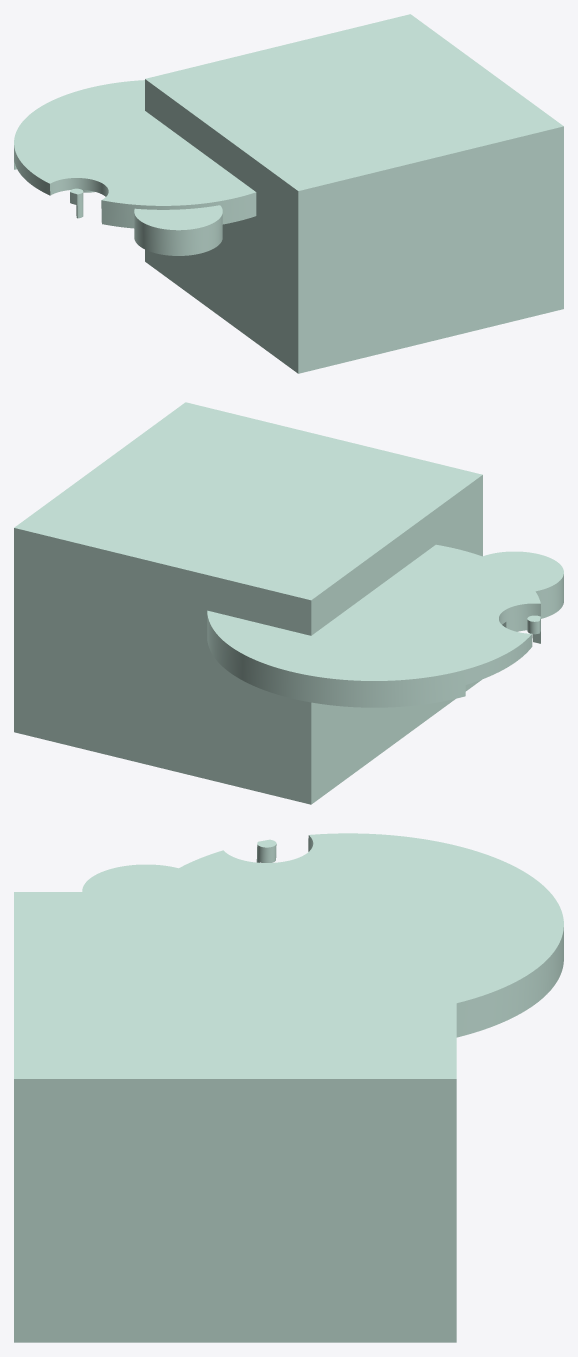
The picture shows the model from 3 angles, top to bottom: view 1: azimuth 30°, elevation 25°; view 2: azimuth 150°, elevation 25°; view 3: azimuth 270°, elevation 25°; orthographic projection. The views are drawn at different scales.
Visible parts, largest first — view 1: Renderer Node; view 2: Renderer Node; view 3: Renderer Node.
Part boxes in pixels (<box>): Renderer Node: <box>14,14,563,373</box>; Renderer Node: <box>14,402,563,804</box>; Renderer Node: <box>14,833,563,1342</box>.
Bounding box in the file's own units: 1.7 × 0.7188 × 1.36.
